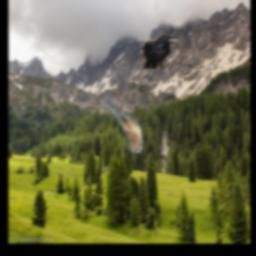Crow: (140, 34, 181, 69)
Sparrow: (105, 97, 144, 153)
